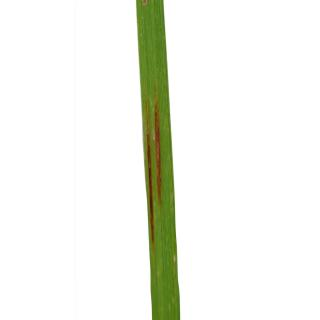Bercak-Cokelat-Sempit: (142, 84, 165, 244)
